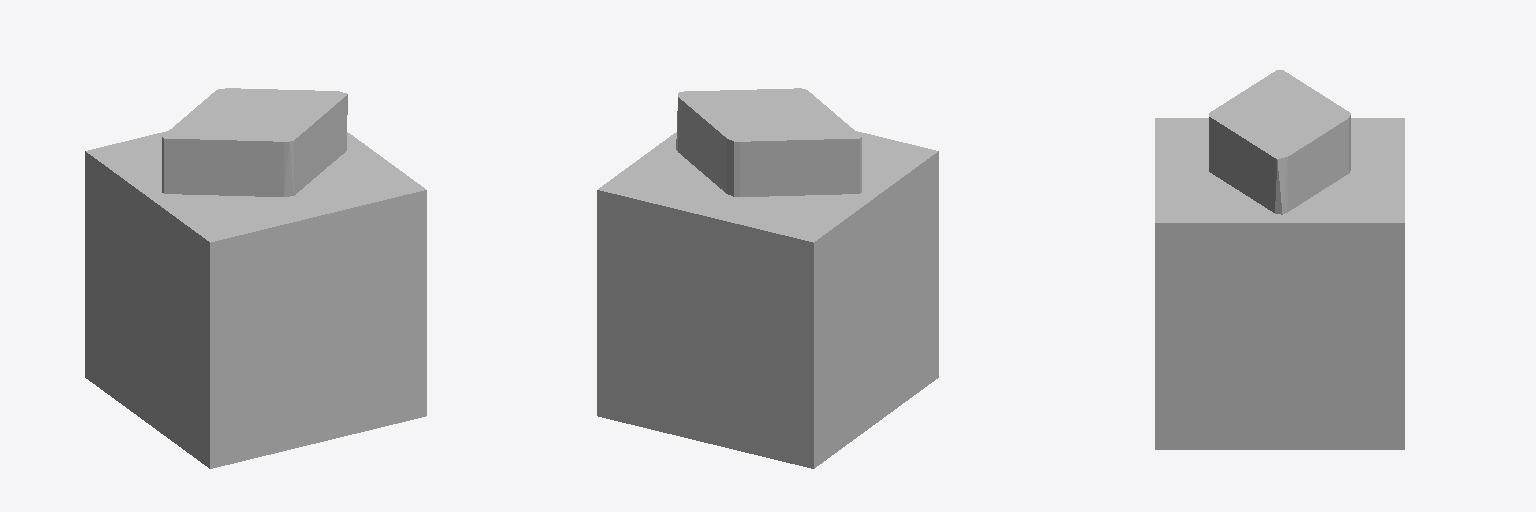
Rendered from Diamond_cube_cap_preprocessed_convex.obj.
The picture shows the model from 3 angles: view 1: azimuth 30°, elevation 25°; view 2: azimuth 150°, elevation 25°; view 3: azimuth 270°, elevation 25°; orthographic projection.
Visible parts, largest first — view 1: convex_0, convex_1; view 2: convex_0, convex_1; view 3: convex_0, convex_1.
Boxes of the visible parts, <box> form: convex_0: <box>85,131,426,468</box>; convex_1: <box>162,88,347,196</box>; convex_0: <box>597,131,938,468</box>; convex_1: <box>676,88,861,196</box>; convex_0: <box>1155,118,1404,449</box>; convex_1: <box>1209,70,1350,214</box>.
Size of the model in its own units: 0.081 by 0.1008 by 0.081.